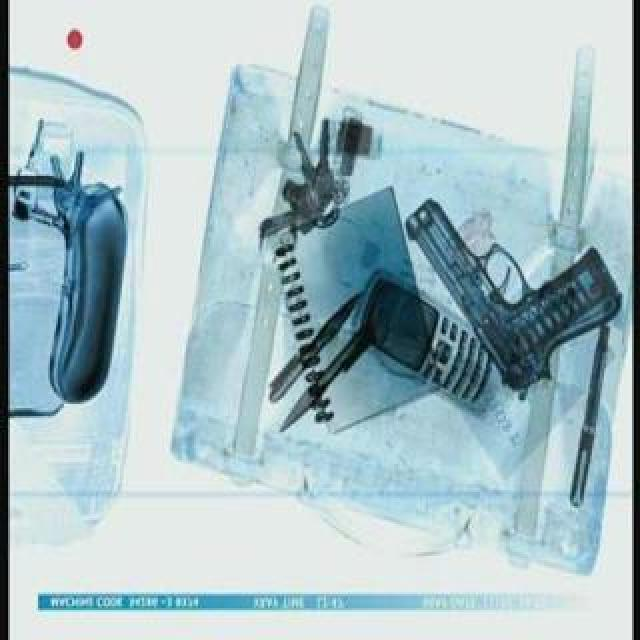gun: (404, 196, 622, 394)
